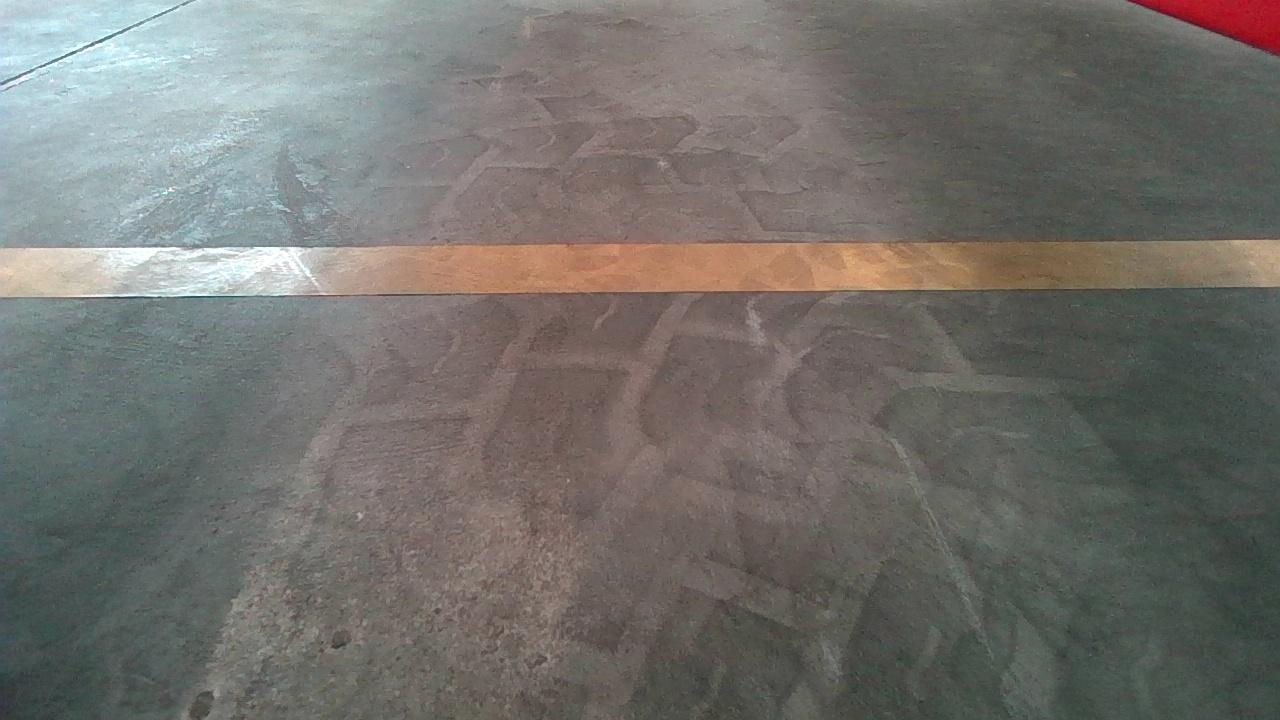yellow_line: (17, 231, 1280, 298)
